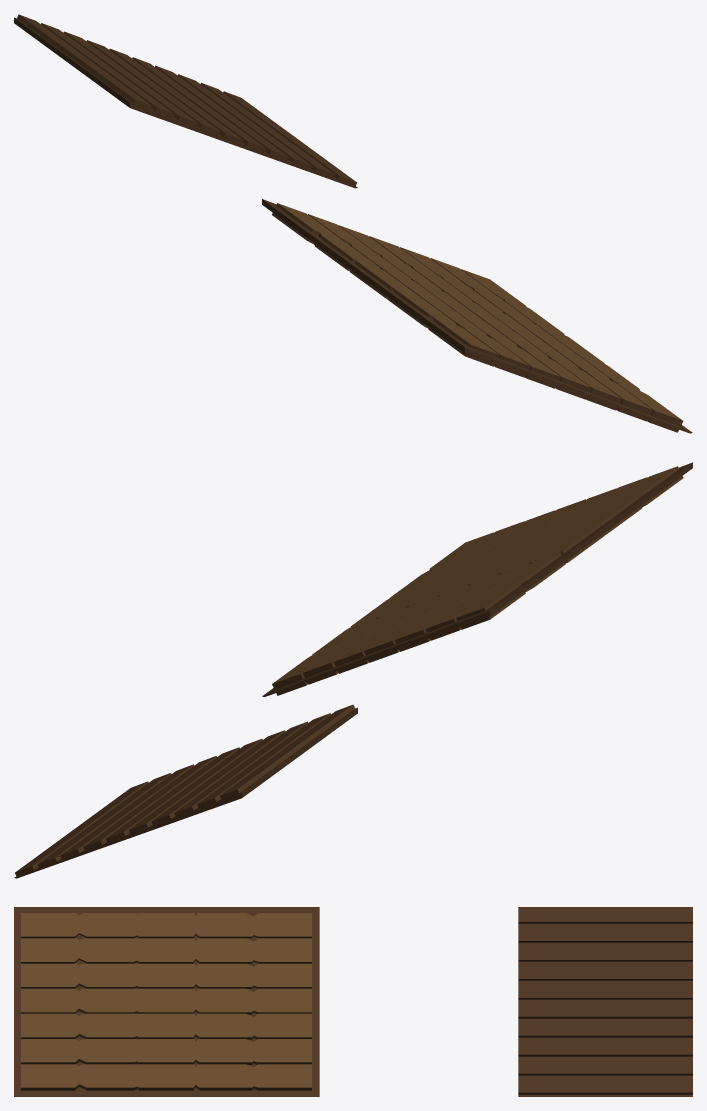
Rendered from stairs_for_survival_videogame.glb.
3 views of the same model, one above another, from view 1: azimuth 30°, elevation 25°; view 2: azimuth 150°, elevation 25°; view 3: azimuth 270°, elevation 25° (orthographic). The views are drawn at different scales.
Visible parts, largest first — view 1: Cube; view 2: Cube; view 3: Cube.
Boxes of the visible parts, x1,y1,x2,y2 form: Cube: (14, 14, 692, 433); Cube: (14, 462, 692, 878); Cube: (14, 907, 692, 1096).
Size of the model in its own units: 1.84 by 1.11 by 6.29.
Materials: 1 (1 with a texture image).
